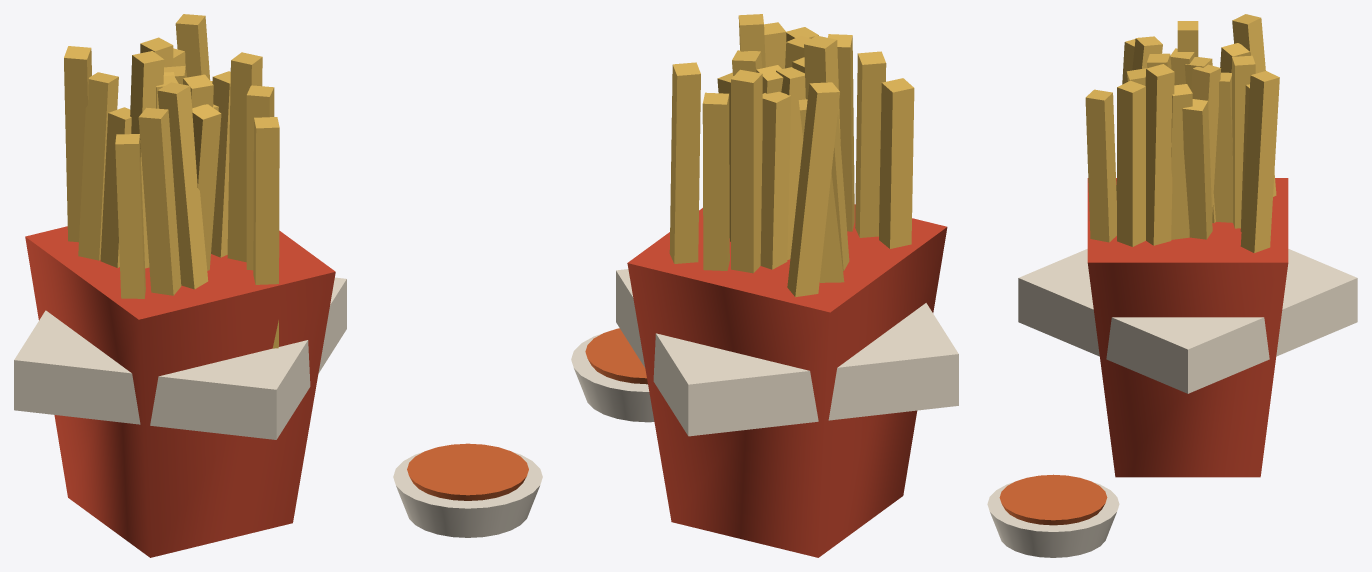
The model's file is fries.glb.
3 views of the same model, side by side, from view 1: azimuth 30°, elevation 25°; view 2: azimuth 150°, elevation 25°; view 3: azimuth 270°, elevation 25° (orthographic). The views are drawn at different scales.
Parts seen in each view (by area): view 1: Carton, Fries, fries, Sauce; view 2: Carton, Fries, fries, Sauce; view 3: Fries, Carton, fries, Sauce.
Part boxes in pixels (x1,y1,x2,y2): Carton: (25,226,335,557); Fries: (64,14,279,348); fries: (14,277,542,537); Sauce: (407,443,528,500); Carton: (627,204,947,557); Fries: (669,14,914,365); fries: (571,269,958,436); Sauce: (585,328,647,384); Fries: (1085,14,1279,252); Carton: (1087,178,1288,477); fries: (987,249,1357,557); Sauce: (999,474,1107,525).
Bounding box in the file's own units: 1.84 × 1.84 × 1.51.
